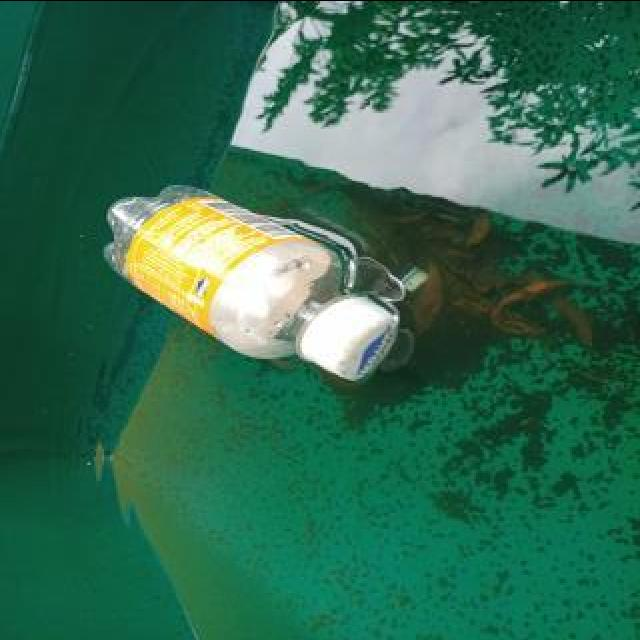Bottle: (103, 181, 402, 383)
